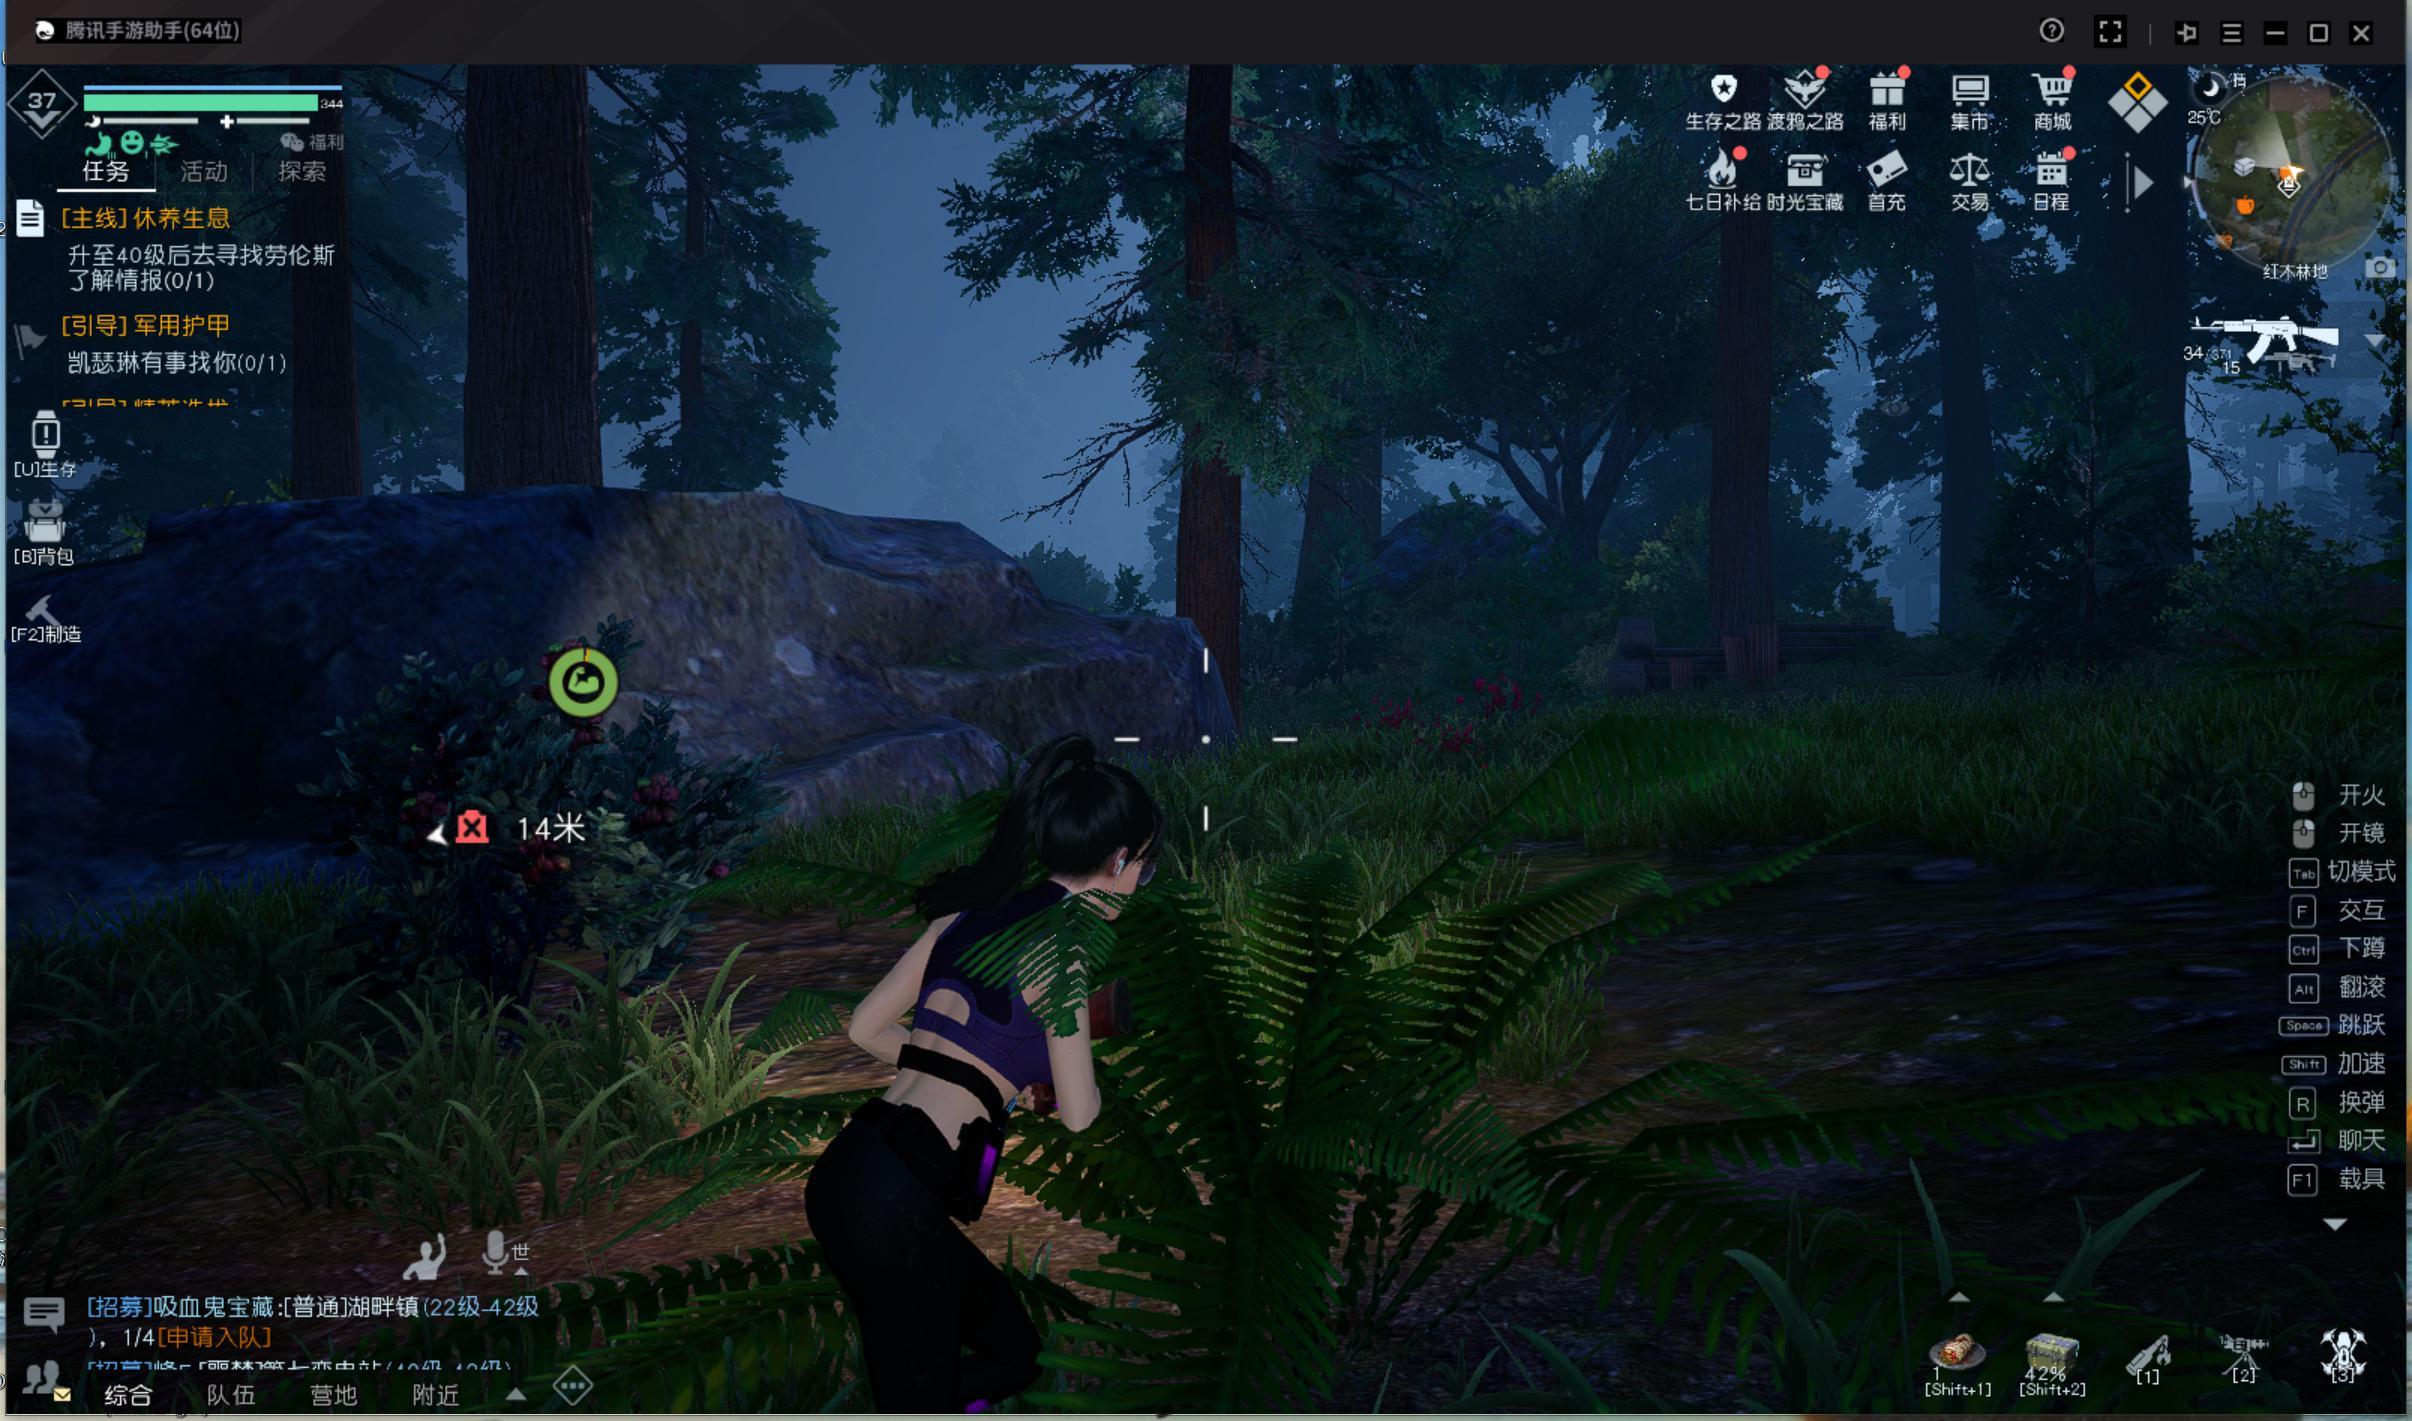tree: (452, 78, 606, 504), (1690, 222, 1798, 714), (1177, 101, 1255, 714), (1915, 264, 2016, 680), (1285, 310, 1384, 685), (279, 115, 369, 514)
